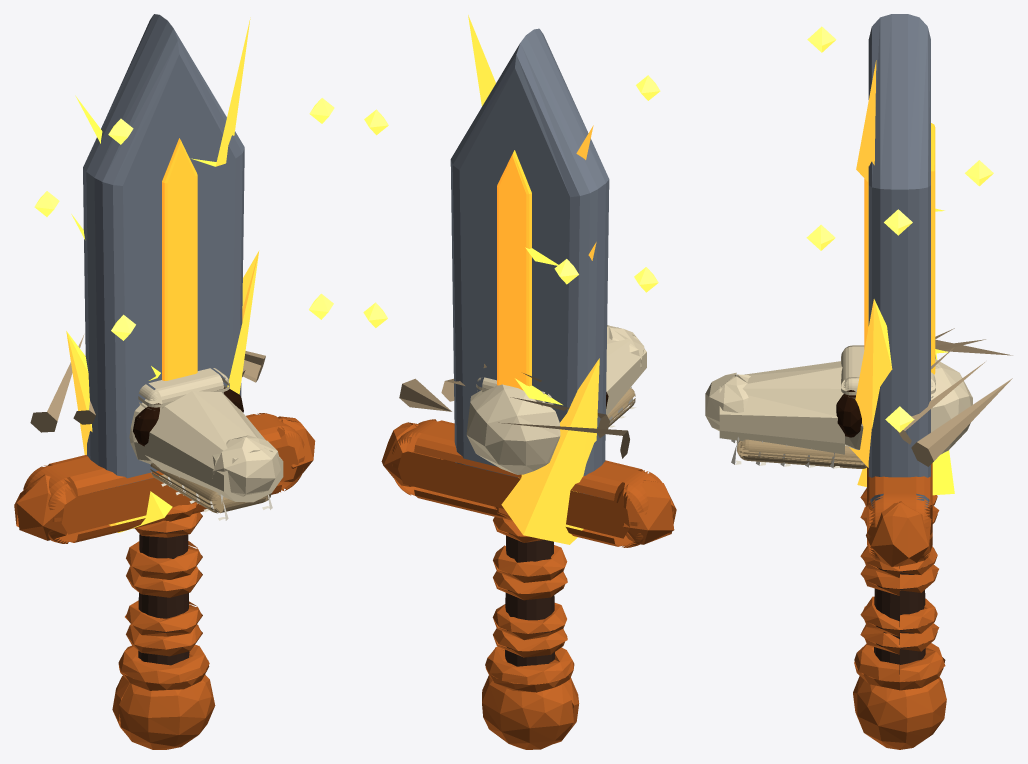
File: dragontooth_dagger.glb
The picture shows the model from 3 angles, left to right: view 1: azimuth 30°, elevation 25°; view 2: azimuth 150°, elevation 25°; view 3: azimuth 270°, elevation 25°; orthographic projection. The views are drawn at different scales.
Visible parts, largest first — view 1: dragontooth_dagger; view 2: dragontooth_dagger; view 3: dragontooth_dagger.
Boxes of the visible parts, left/top/right/bottom form: dragontooth_dagger: left=14, top=14, right=334, bottom=749; dragontooth_dagger: left=363, top=15, right=676, bottom=749; dragontooth_dagger: left=705, top=14, right=1012, bottom=749.
Bounding box in the file's own units: 0.5514 × 1.21 × 0.4619.
